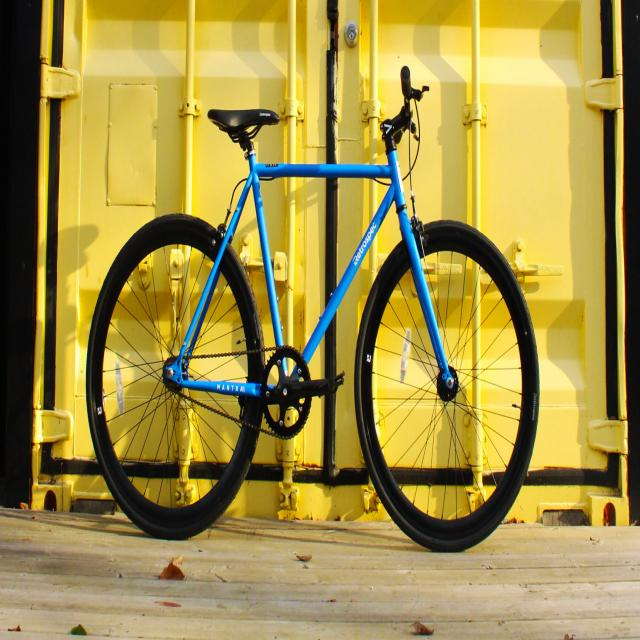bicycle: (80, 33, 553, 571)
